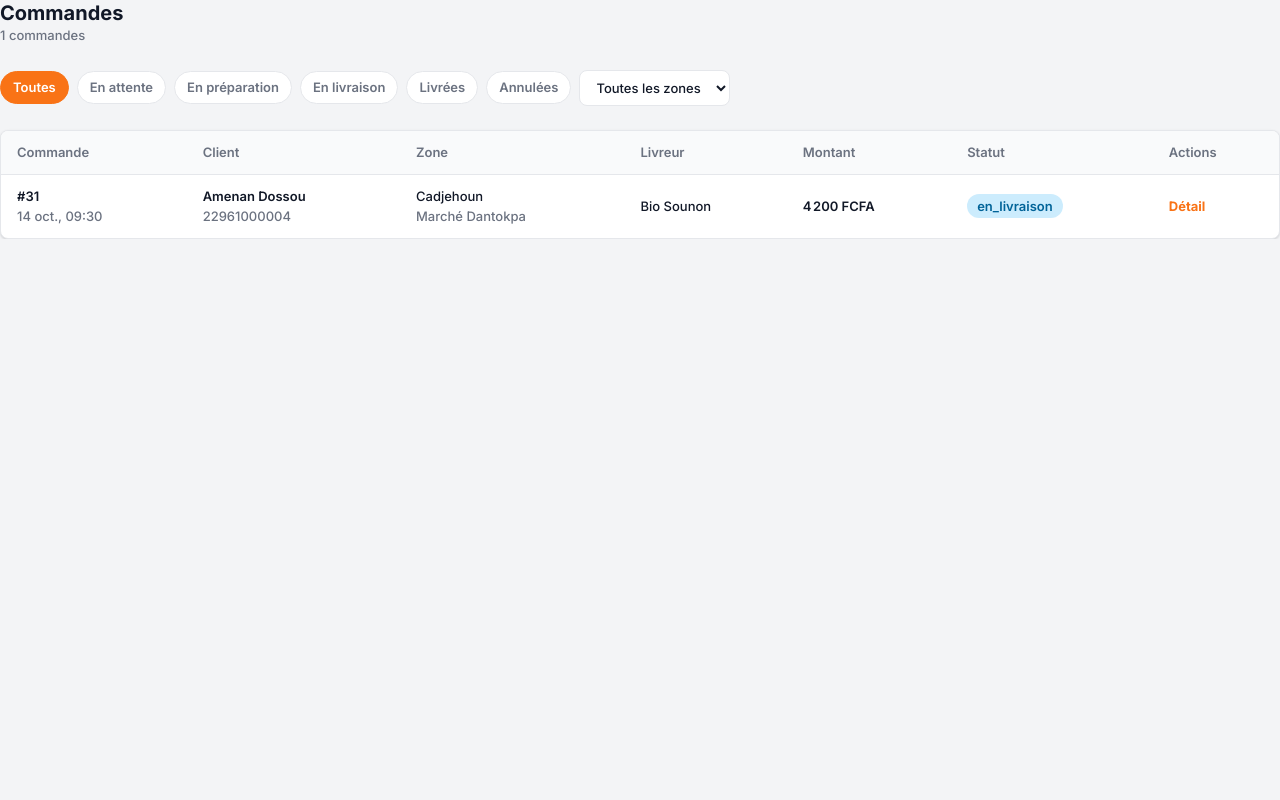
Test: Modale de commande — administration et manager › reprend le gabarit : titre, sous-titre daté, bandeau, cartes, pied
Click the text "#31": {"x": 28, "y": 196} [17,188,39,204]
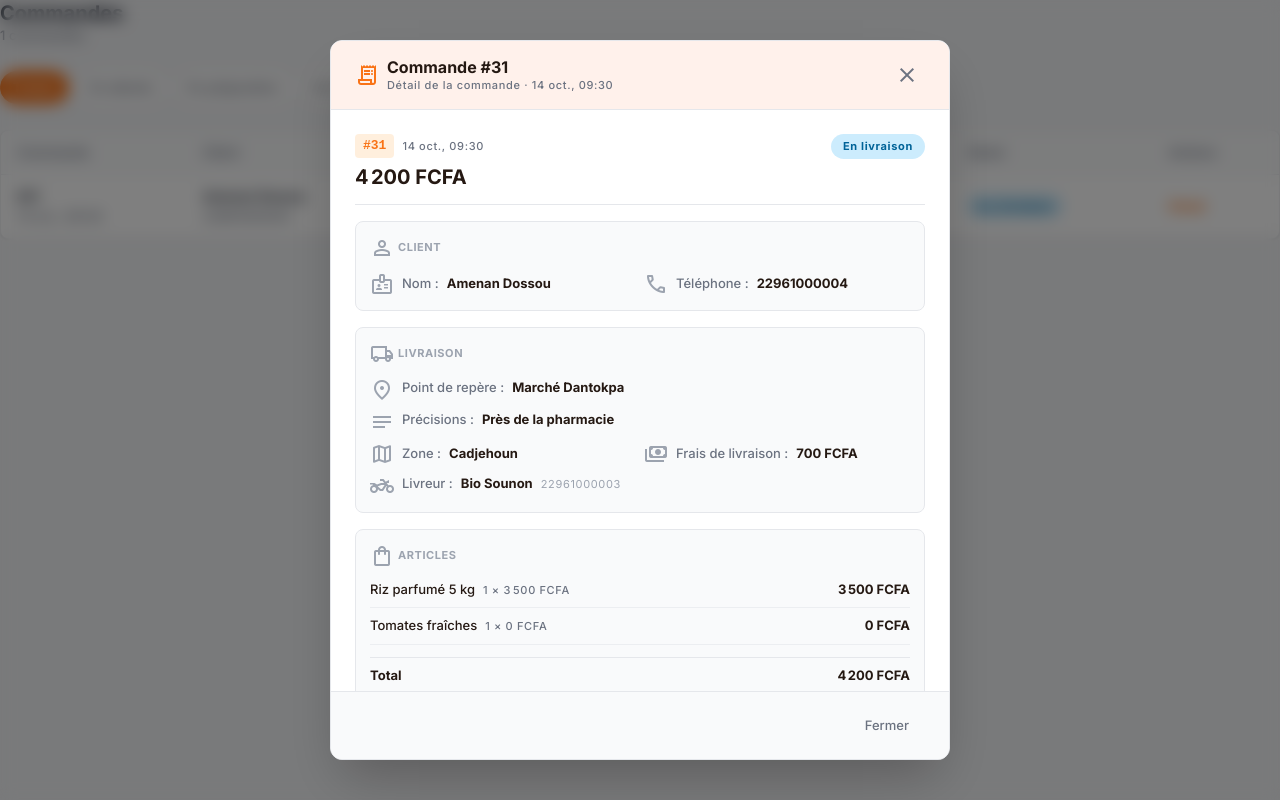
Result: the heading "Commande #31" is shown at [387,57,508,77]
Result: the text "Détail de la commande · 14 oct., 09:30" is shown at [387,78,613,93]
Result: the heading "4 200 FCFA" is shown at [355,162,484,192]
